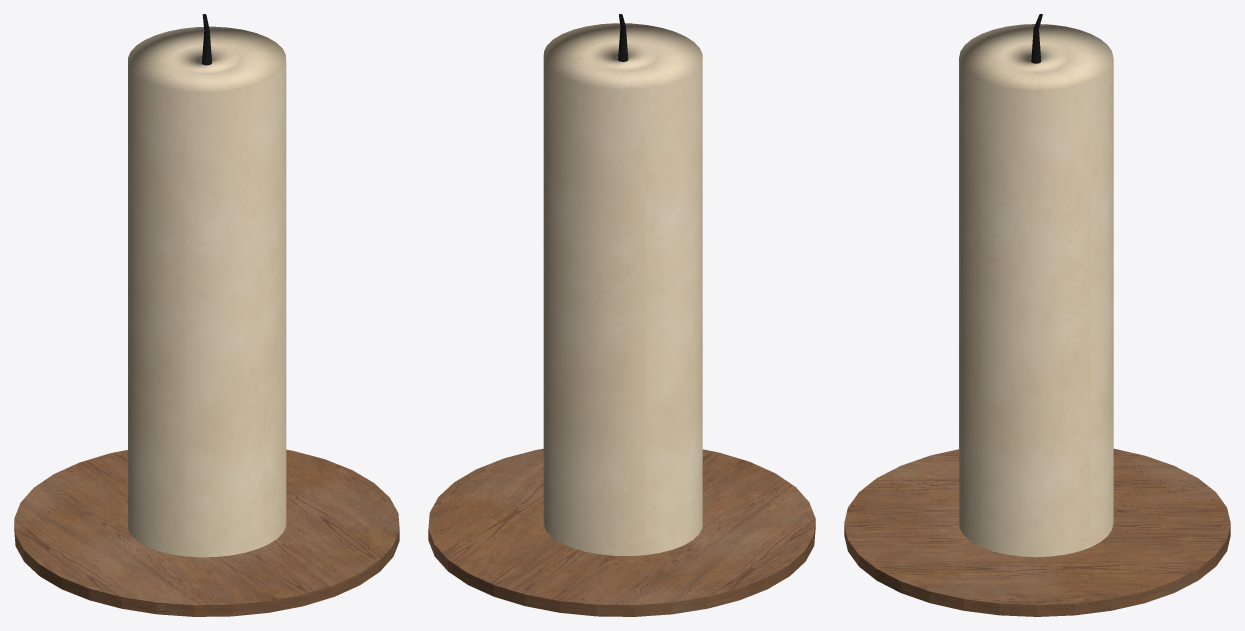
File: candela.fbx
3 views of the same model, side by side, from view 1: azimuth 30°, elevation 25°; view 2: azimuth 150°, elevation 25°; view 3: azimuth 270°, elevation 25° (orthographic).
Visible parts, largest first — view 1: Cylinder.003, Cylinder.002; view 2: Cylinder.003, Cylinder.002; view 3: Cylinder.003, Cylinder.002.
Part boxes in pixels (box(x1,y1,x2,y2)): Cylinder.003: box(128, 14, 286, 557); Cylinder.002: box(14, 449, 399, 616); Cylinder.003: box(543, 14, 702, 556); Cylinder.002: box(428, 448, 815, 616); Cylinder.003: box(959, 14, 1113, 557); Cylinder.002: box(844, 448, 1230, 616).
Size of the model in its own units: 121 by 179 by 121.
